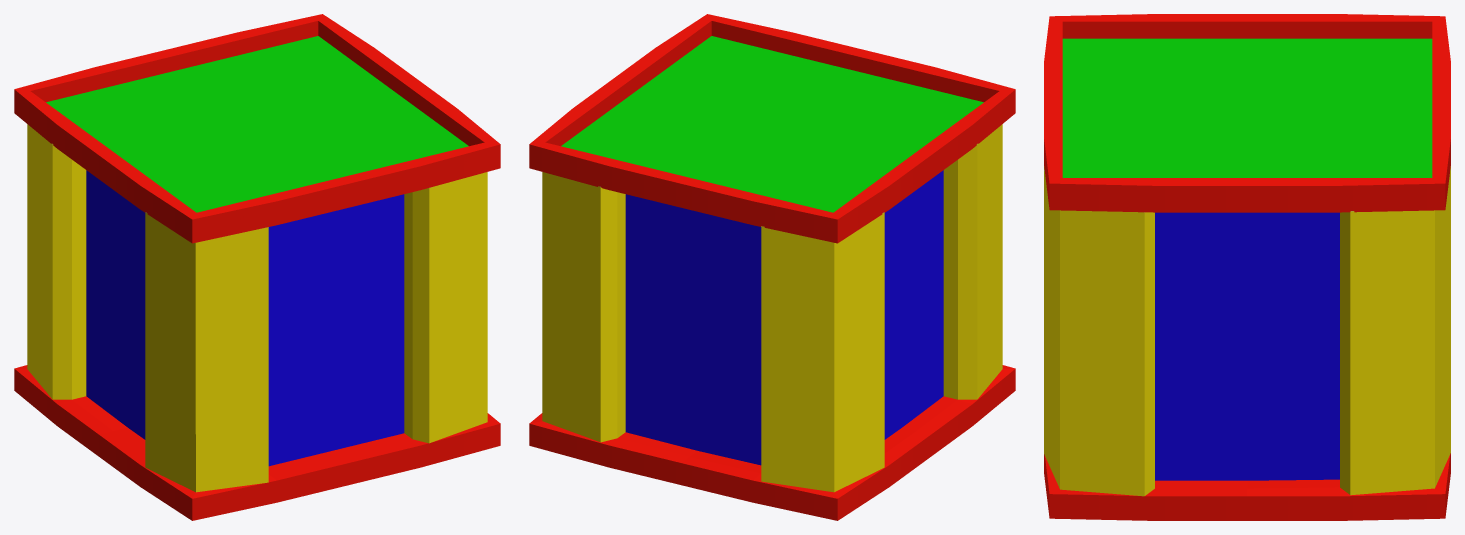
The model's file is FYP_Crate_Closed_Re-UVUnwrap.FBX.
3 renders of one model, left to right at view 1: azimuth 30°, elevation 25°; view 2: azimuth 150°, elevation 25°; view 3: azimuth 270°, elevation 25°, orthographic. The views are drawn at different scales.
Parts seen in each view (by area): view 1: Box002; view 2: Box002; view 3: Box002.
Part boxes in pixels (left/top/right/bottom): Box002: left=14, top=14, right=500, bottom=520; Box002: left=529, top=14, right=1015, bottom=520; Box002: left=1044, top=14, right=1450, bottom=520.
Size of the model in its own units: 43.31 by 39.37 by 43.31.
